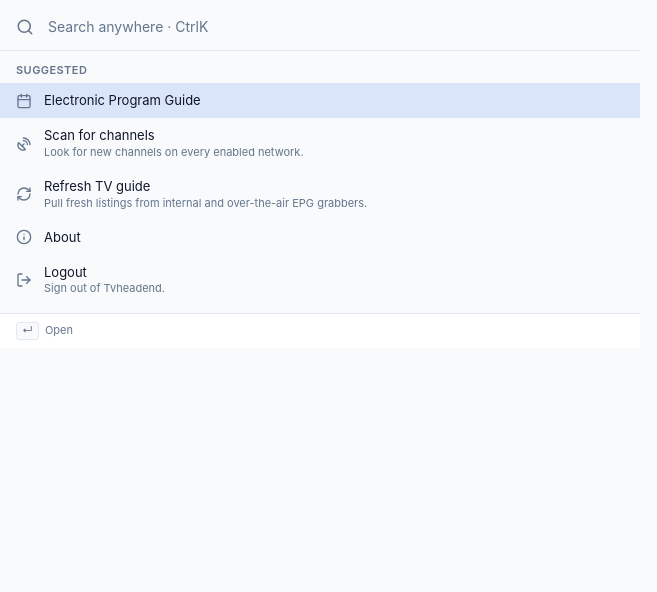
Test: CommandPalette › surfaces 'Scan for channels' under Actions when the user types 'scan'
Type "scan" into the dropdown with class "command-palette__input" at (335, 27), box [46,16,624,38]
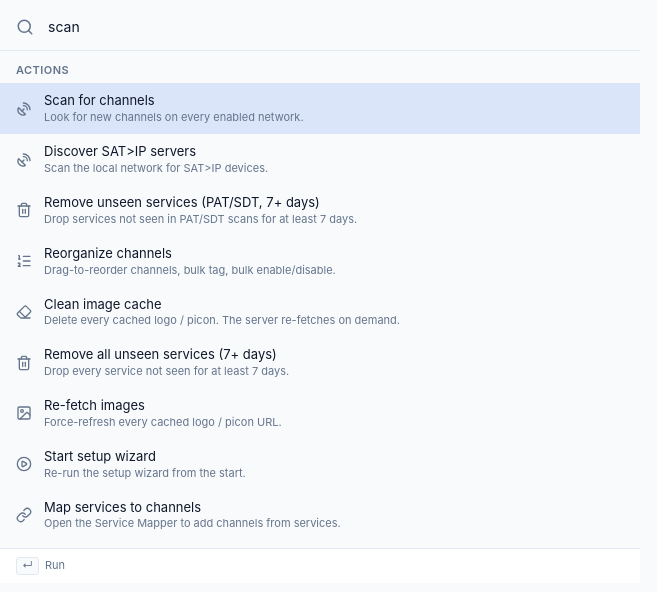
Expected: the text with class "command-palette__row-label" reads "Scan for channels", [44,92,155,108]
Now the text with class "command-palette__group-header" reads "Actions", box [16,64,69,78]
